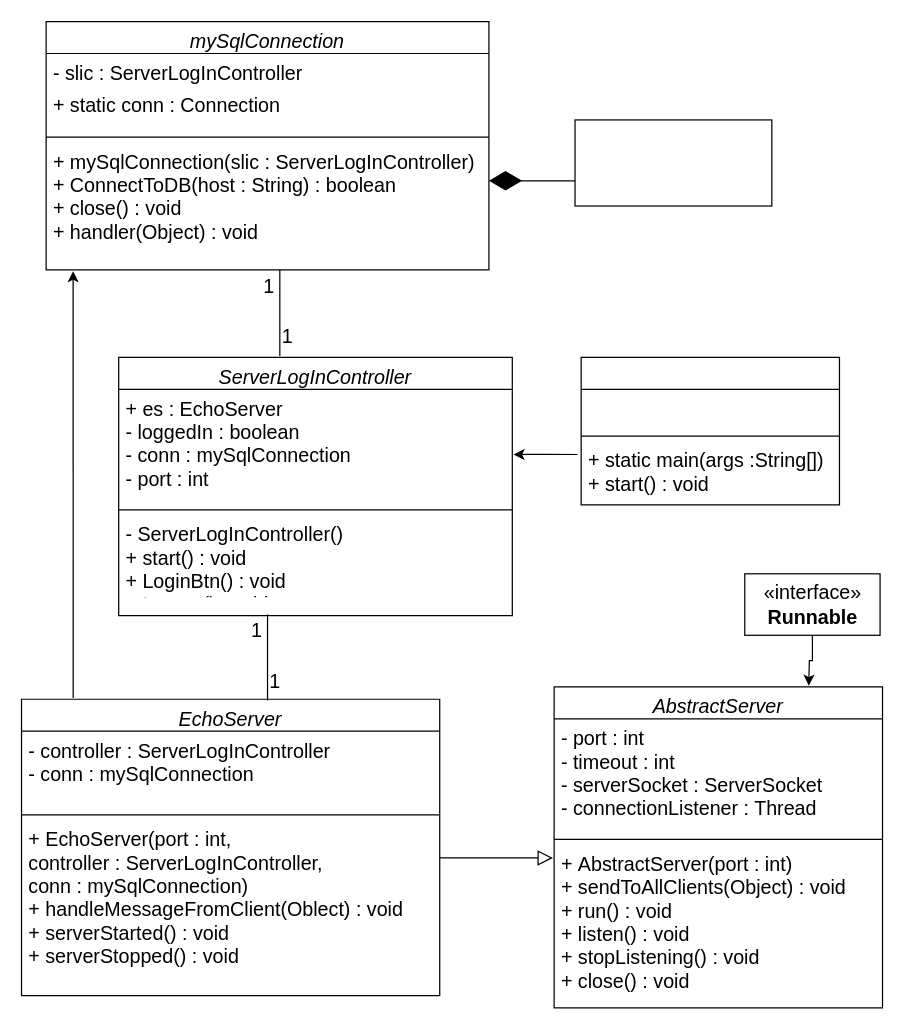
This 904x1032 diagram has some shape labels left out. The shapes that lost their labels are listed below. From the top down, each one's box as (x1, y1, x2, y2) in pixels, then its label:
(574, 119, 772, 206): queryHandler
(580, 356, 839, 505): ServerMain
